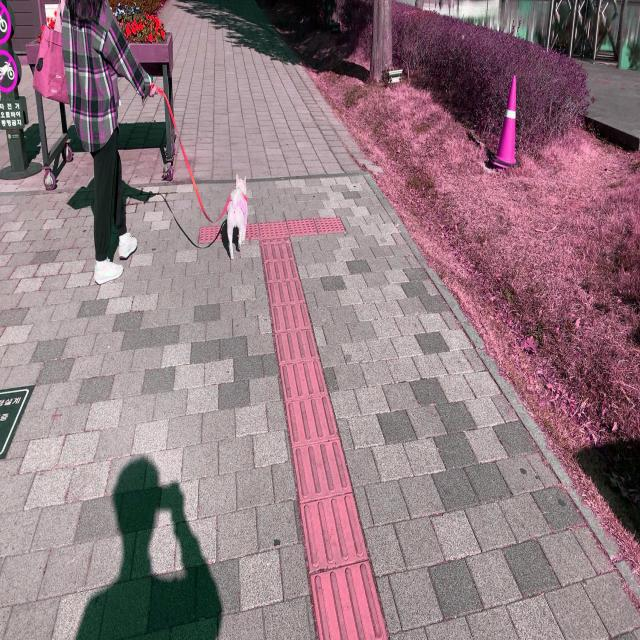Leashed_Dog: (108, 58, 249, 261)
